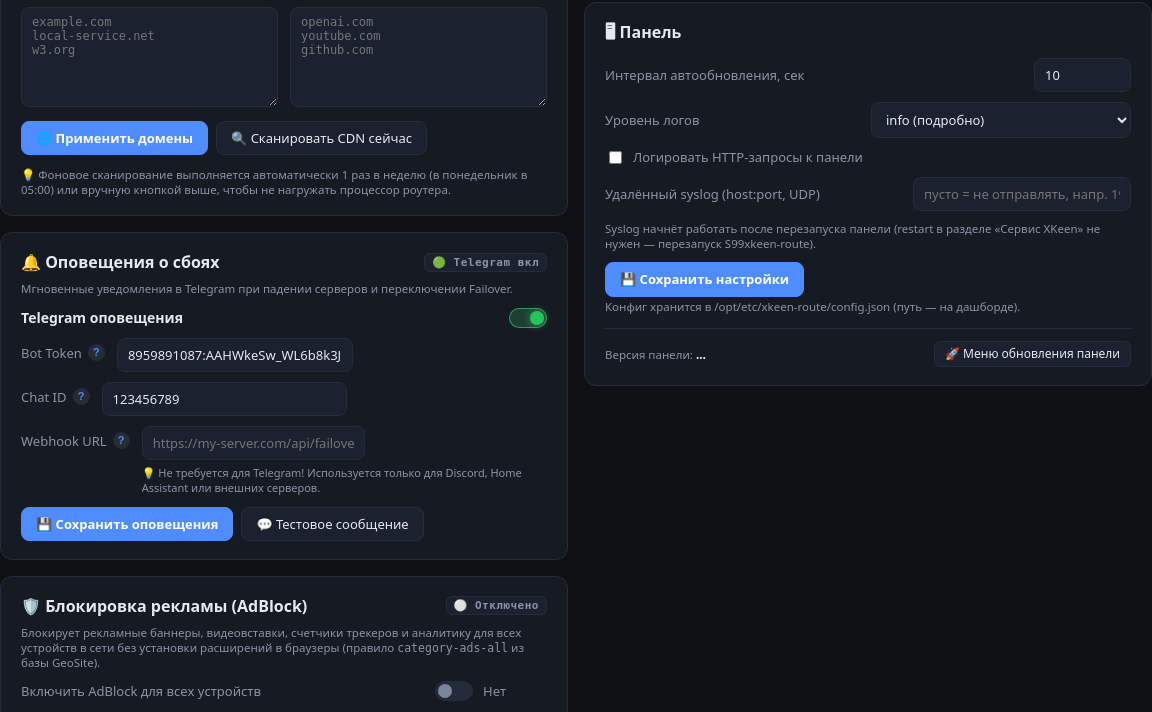
Test: Settings Component — Notifications Guidance & Validation › renders help badges (?) for Bot Token, Chat ID, and Webhook URL and toggles instructions
(page scrolled)
// Click Bot Token help button
Step 1. Click the button with class "badge-help-btn" next to "Bot Token" → [96, 353], box [88, 344, 105, 361]
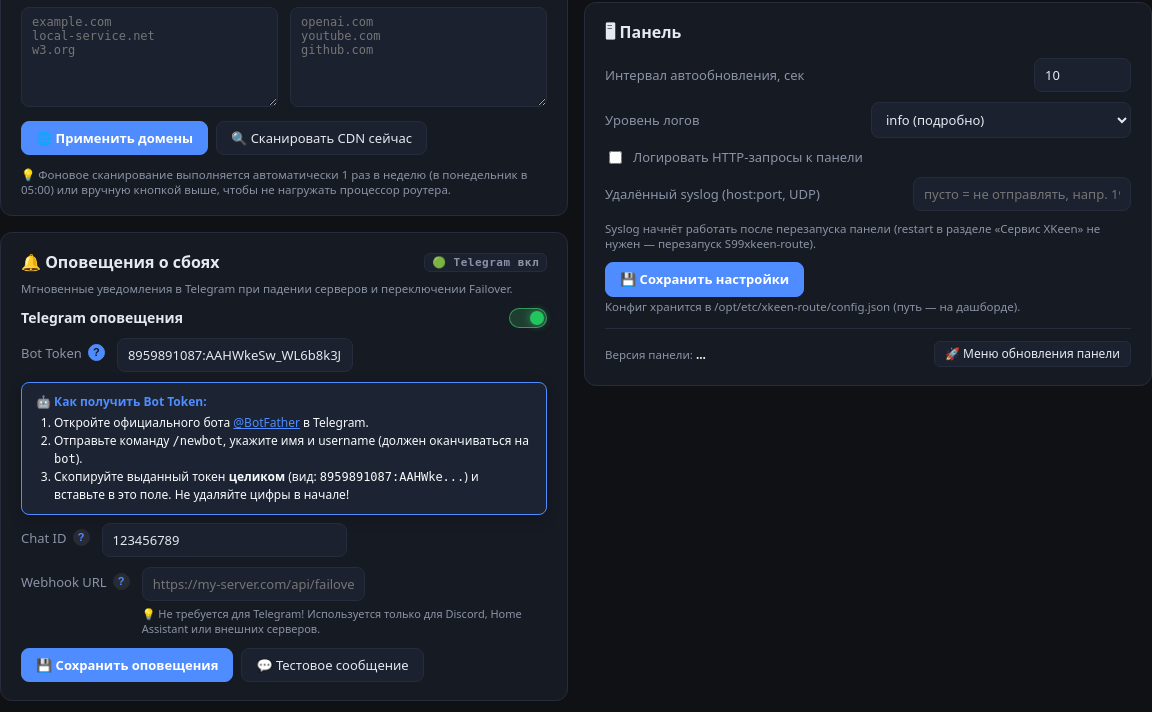
Now the element with class "help-box-tip" is shown, box [21, 382, 547, 515]
Now the element with class "help-box-tip" shows "Как получить Bot Token", box [36, 393, 207, 410]
Now the element with class "help-box-tip" shows "@BotFather", box [233, 414, 300, 431]
// Click again to toggle off
Step 2. Click the 1st button with class "badge-help-btn" → [96, 353], box [88, 344, 105, 361]
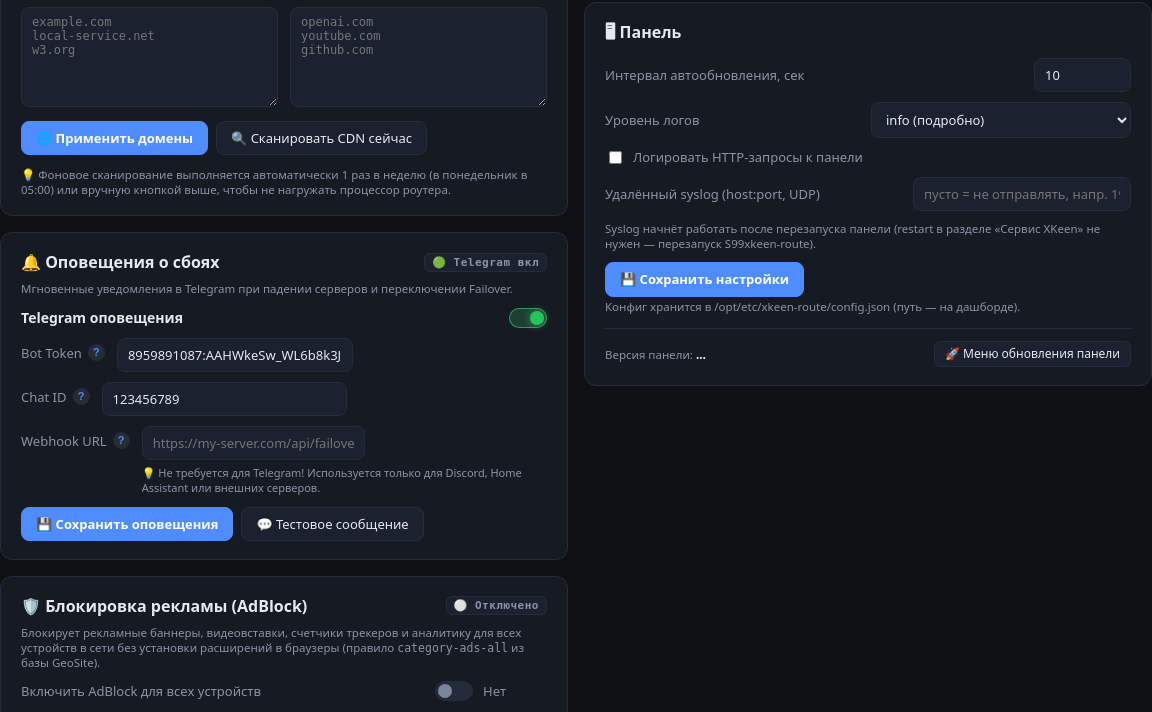
Now the element with class "help-box-tip" is gone
// Click Chat ID help button
Step 3. Click the button with class "badge-help-btn" next to "Chat ID" → [81, 397], box [72, 388, 90, 405]
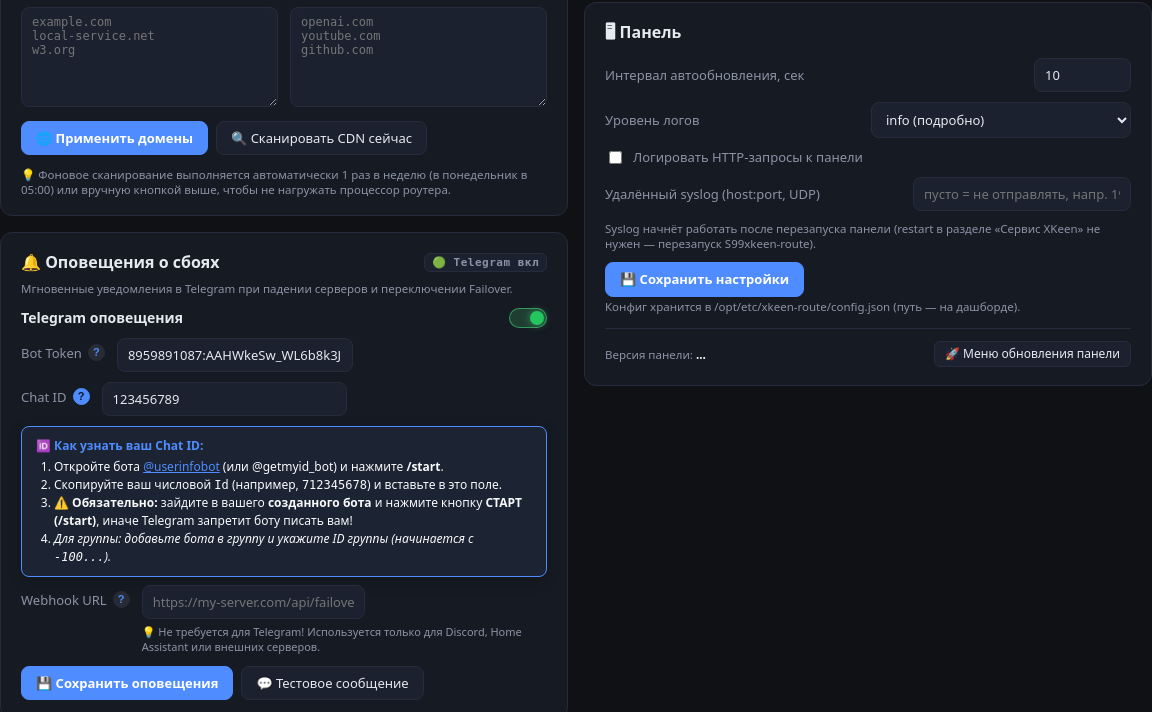
Now the element with class "help-box-tip" is shown, box [21, 426, 547, 577]
Now the element with class "help-box-tip" shows "Как узнать ваш Chat ID", box [36, 437, 203, 454]
Now the element with class "help-box-tip" shows "@userinfobot", box [143, 458, 220, 475]
